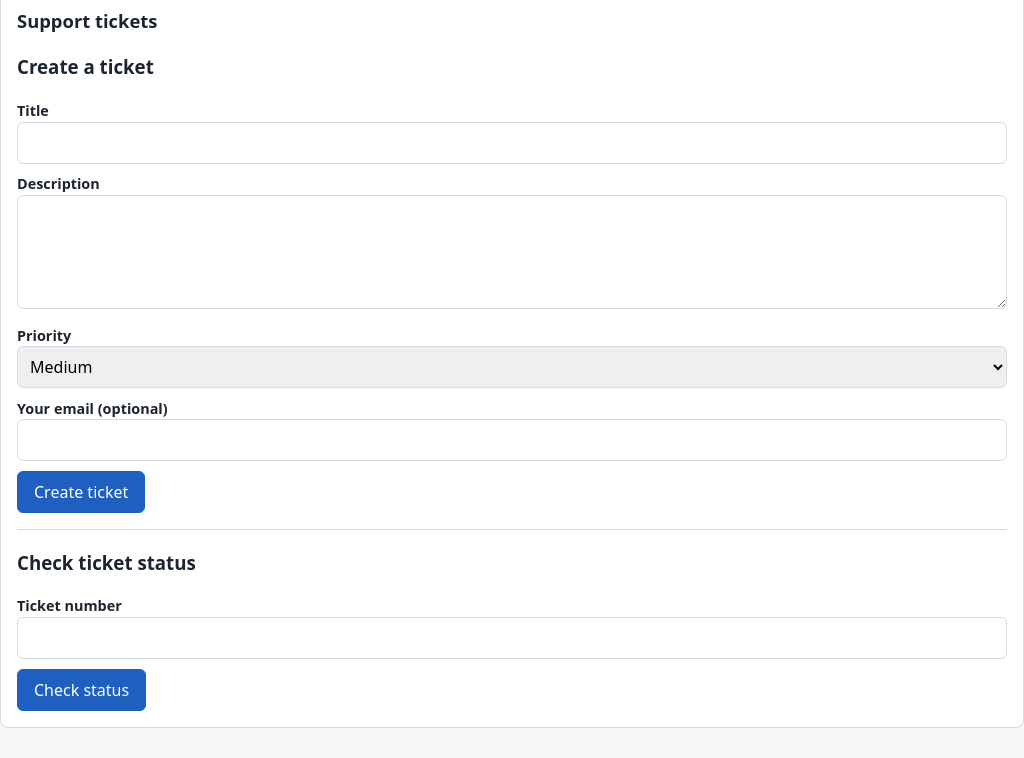
Test: TicketPanel › looks up a ticket's status by number
Type "7" into the number field labelled "Ticket number" at (512, 638), box [17, 617, 1007, 659]
Then press Enter
(page scrolled)
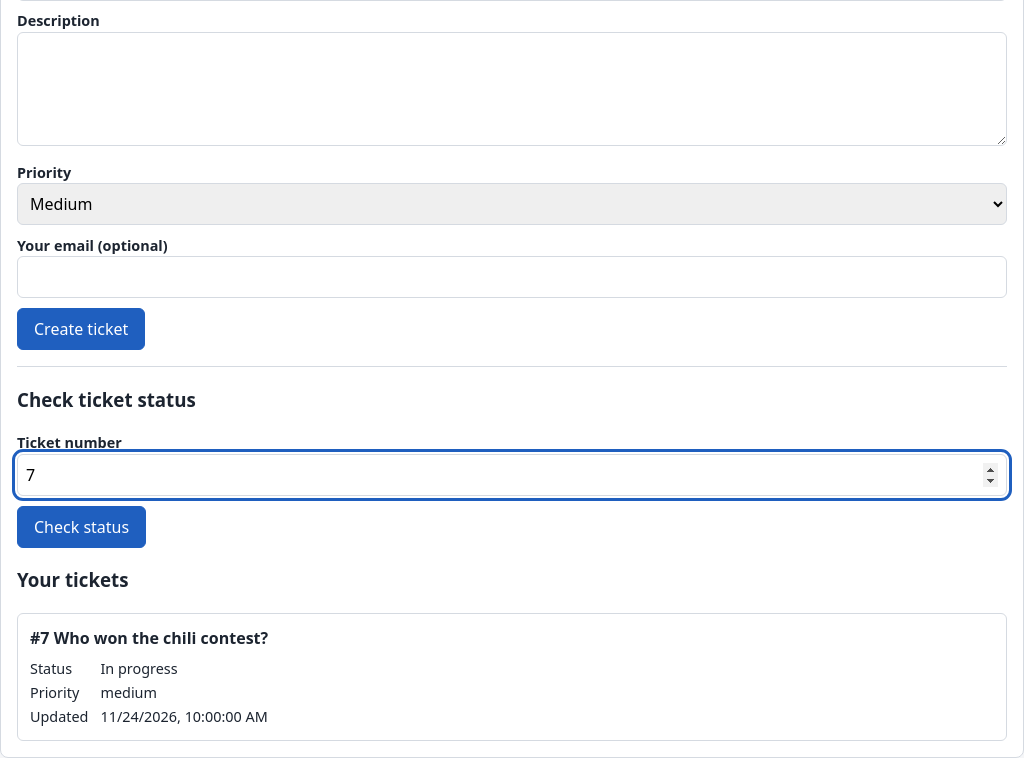
Expected: the element named "Ticket 7" shows "In progress", [100, 659, 178, 678]
